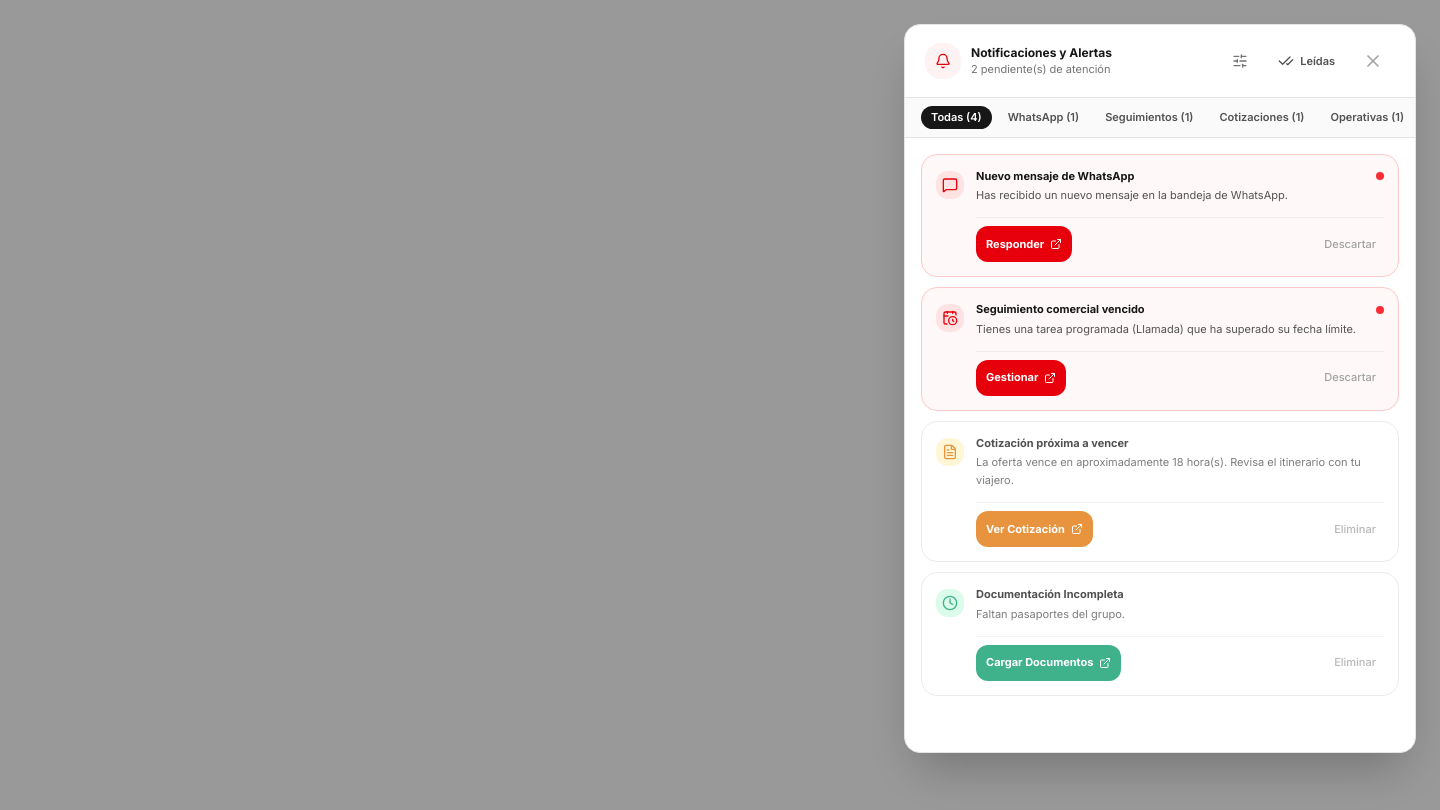
Test: Componente PanelNotificaciones (T-110) › gestiona la activación de notificaciones de navegador solicitando permiso
Click the button with test id "boton-ajustes-notificaciones": (1240, 61) [1218,39,1262,83]
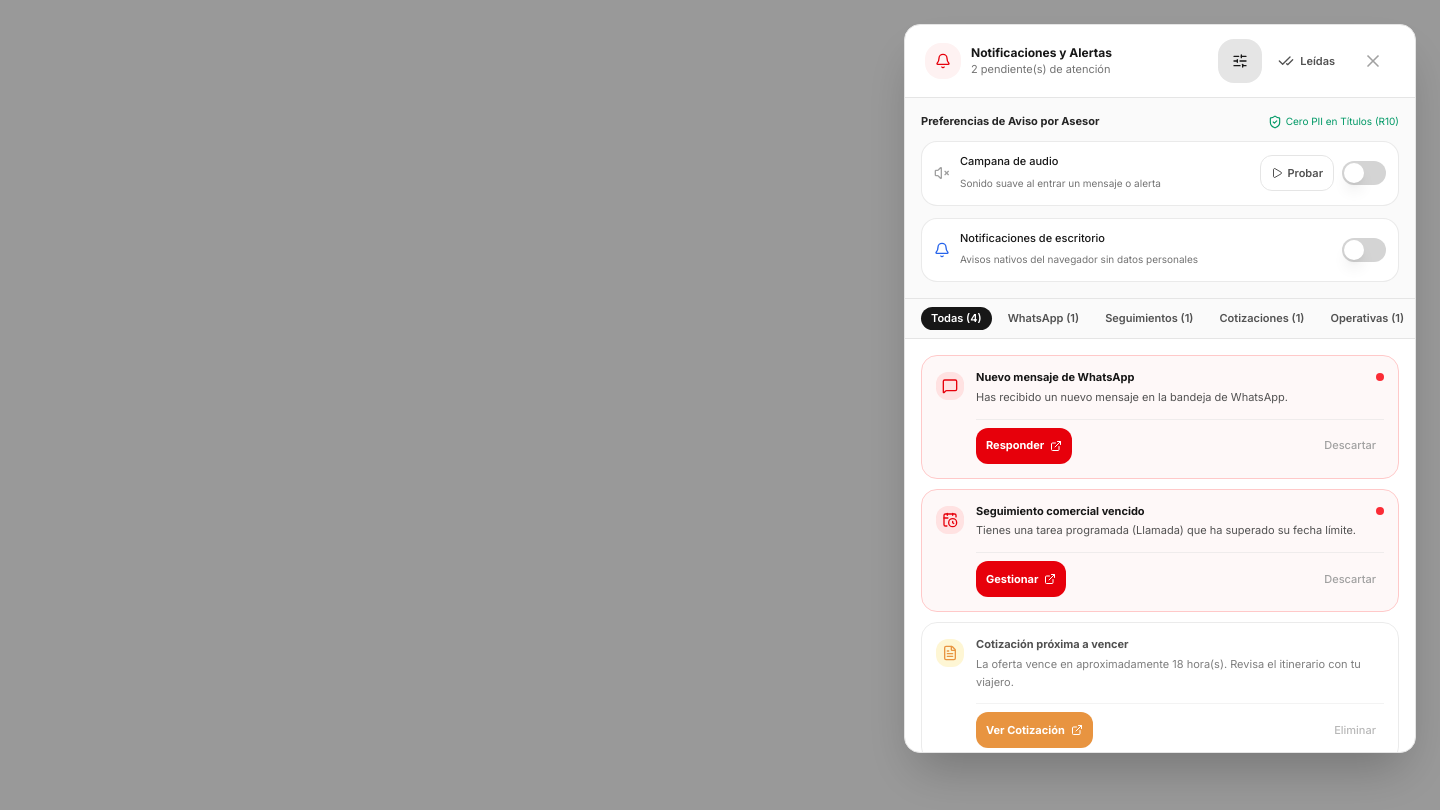
Click the switch with test id "switch-navegador-notificaciones": (1364, 250) [1342,238,1386,262]
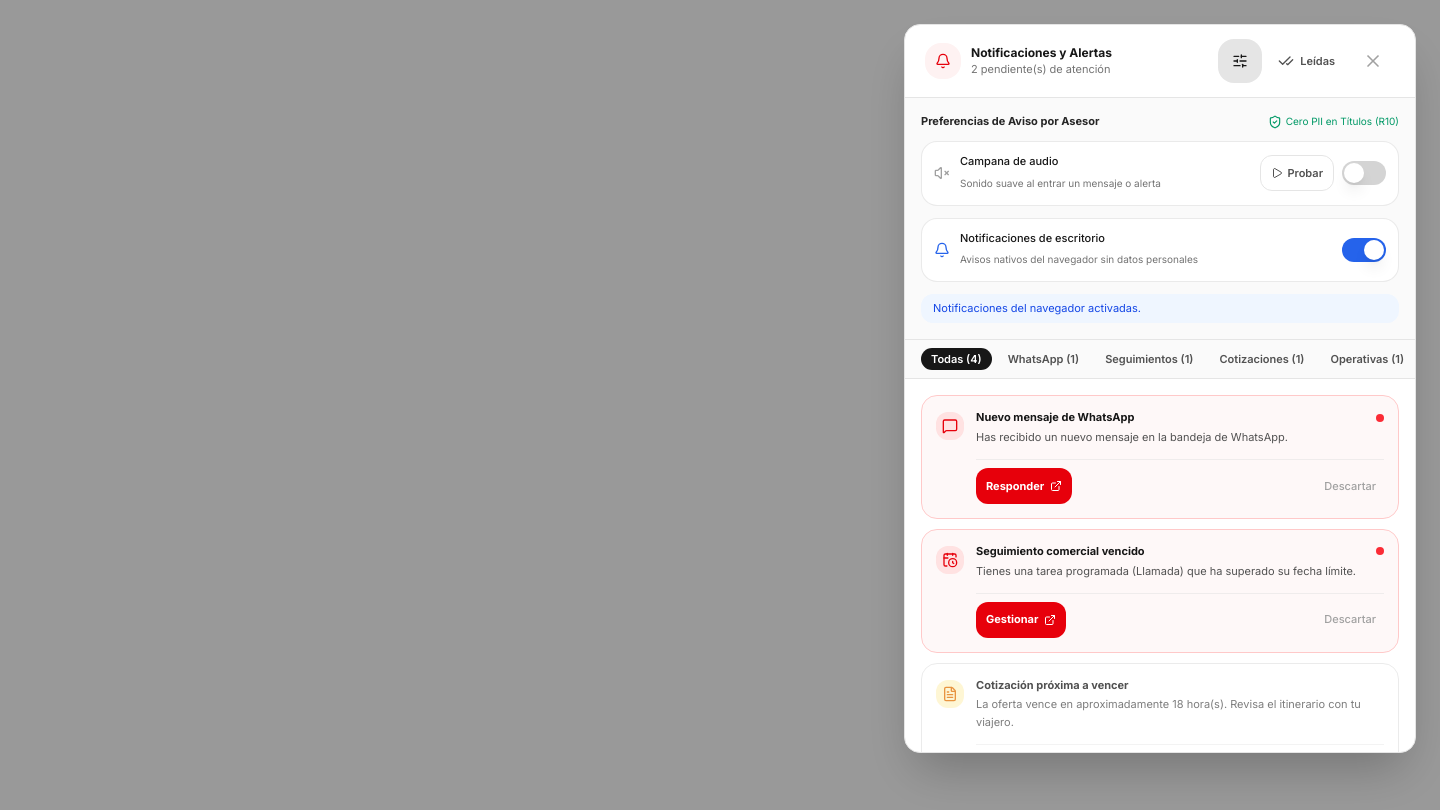
Result: the text with test id "mensaje-estado-permiso" shows "Notificaciones del navegador activadas" at [933,301,1141,315]
